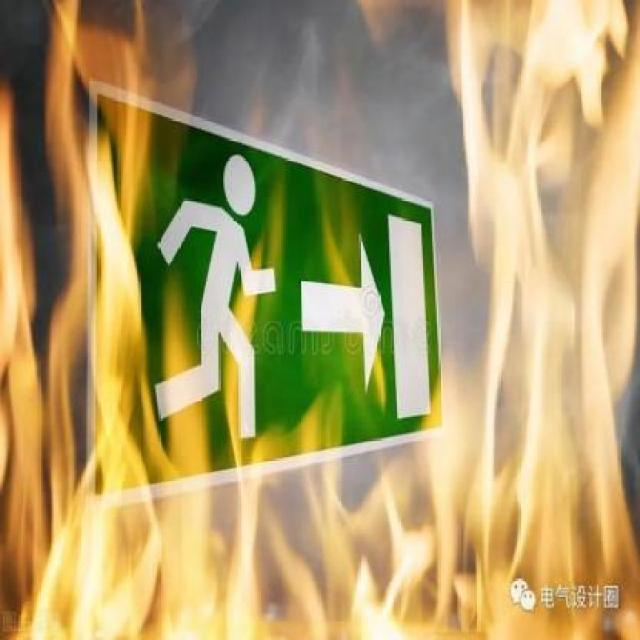exit_sign: (69, 71, 477, 500)
